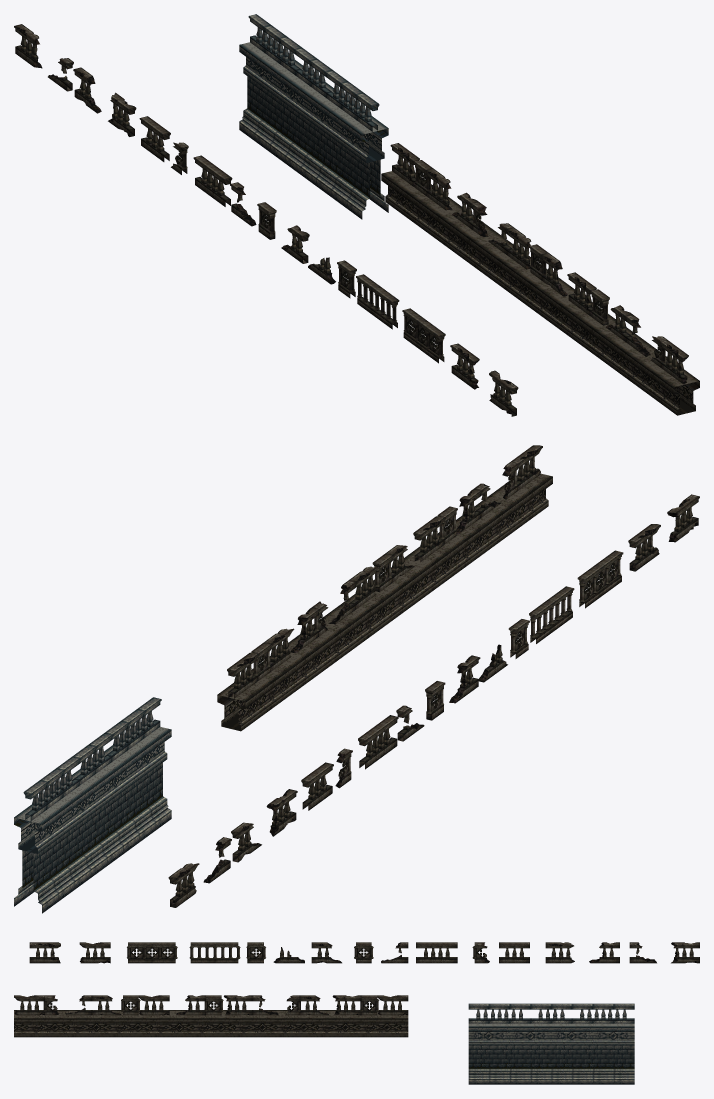
The model's file is EnvMdrMD_Daiseidou_B_Fence_A_150W_Debris_A_L.FBX.
3 views of the same model, one above another, from view 1: azimuth 30°, elevation 25°; view 2: azimuth 150°, elevation 25°; view 3: azimuth 270°, elevation 25° (orthographic). The views are drawn at different scales.
Parts seen in each view (by area): view 1: EnvMdrMD_Daiseidou_B_Fence_Debris_A_Spline, EnvMdrMD_Daiseidou_B_Fence_A_Spline, EnvMdrMD_Daiseidou_B_Fence_C_225W, EnvMdrMD_Daiseidou_B_Fence_D_225W, EnvMdrMD_Daiseidou_B_Fence_A_Loop_200W, EnvMdrMD_Daiseidou_B_Fence_A_Loop_150W, EnvMdrMD_Daiseidou_B_Fence_A_150W_Debris_A_L, EnvMdrMD_Daiseidou_B_Fence_A_150W_Debris_A_R, EnvMdrMD_Daiseidou_B_Fence_A_150W_Debris_B_L, EnvMdrMD_Daiseidou_B_Fence_A_150W_Debris_B_R; view 2: EnvMdrMD_Daiseidou_B_Fence_Debris_A_Spline, EnvMdrMD_Daiseidou_B_Fence_A_Spline, EnvMdrMD_Daiseidou_B_Fence_C_225W, EnvMdrMD_Daiseidou_B_Fence_D_225W, EnvMdrMD_Daiseidou_B_Fence_A_Loop_200W, EnvMdrMD_Daiseidou_B_Fence_A_Loop_150W, EnvMdrMD_Daiseidou_B_Fence_A_150W_Debris_A_L, EnvMdrMD_Daiseidou_B_Fence_A_150W_Debris_A_R, EnvMdrMD_Daiseidou_B_Fence_A_150W_Debris_B_L, EnvMdrMD_Daiseidou_B_Fence_A_150W_Debris_B_R; view 3: EnvMdrMD_Daiseidou_B_Fence_Debris_A_Spline, EnvMdrMD_Daiseidou_B_Fence_A_Spline, EnvMdrMD_Daiseidou_B_Fence_C_225W, EnvMdrMD_Daiseidou_B_Fence_D_225W, EnvMdrMD_Daiseidou_B_Fence_A_Loop_200W, EnvMdrMD_Daiseidou_B_Fence_A_Loop_150W, EnvMdrMD_Daiseidou_B_Fence_A_150W_Debris_A_R, EnvMdrMD_Daiseidou_B_Fence_A_150W_Debris_A_L, EnvMdrMD_Daiseidou_B_Fence_A_150W_Debris_B_R, EnvMdrMD_Daiseidou_B_Fence_A_150W_Debris_B_L, EnvMdrMD_Daiseidou_B_Fence_C_Loop_Harf, EnvMdrMD_Daiseidou_B_Fence_A_150W_Debris_C_L (+6 smaller).
Part boxes in pixels (x1,y1,x2,y2): EnvMdrMD_Daiseidou_B_Fence_Debris_A_Spline: (381, 143, 699, 415); EnvMdrMD_Daiseidou_B_Fence_A_Spline: (239, 14, 388, 219); EnvMdrMD_Daiseidou_B_Fence_C_225W: (402, 308, 445, 363); EnvMdrMD_Daiseidou_B_Fence_D_225W: (356, 274, 399, 329); EnvMdrMD_Daiseidou_B_Fence_A_Loop_200W: (193, 155, 232, 206); EnvMdrMD_Daiseidou_B_Fence_A_Loop_150W: (139, 116, 170, 161); EnvMdrMD_Daiseidou_B_Fence_A_150W_Debris_A_L: (450, 343, 479, 389); EnvMdrMD_Daiseidou_B_Fence_A_150W_Debris_A_R: (489, 370, 518, 416); EnvMdrMD_Daiseidou_B_Fence_A_150W_Debris_B_L: (14, 24, 42, 68); EnvMdrMD_Daiseidou_B_Fence_A_150W_Debris_B_R: (108, 92, 136, 136); EnvMdrMD_Daiseidou_B_Fence_Debris_A_Spline: (217, 445, 552, 731); EnvMdrMD_Daiseidou_B_Fence_A_Spline: (14, 697, 171, 913); EnvMdrMD_Daiseidou_B_Fence_C_225W: (577, 550, 623, 608); EnvMdrMD_Daiseidou_B_Fence_D_225W: (529, 586, 574, 643); EnvMdrMD_Daiseidou_B_Fence_A_Loop_200W: (358, 715, 398, 769); EnvMdrMD_Daiseidou_B_Fence_A_Loop_150W: (301, 762, 333, 810); EnvMdrMD_Daiseidou_B_Fence_A_150W_Debris_A_L: (628, 524, 660, 571); EnvMdrMD_Daiseidou_B_Fence_A_150W_Debris_A_R: (667, 494, 699, 542); EnvMdrMD_Daiseidou_B_Fence_A_150W_Debris_B_L: (168, 863, 199, 907); EnvMdrMD_Daiseidou_B_Fence_A_150W_Debris_B_R: (266, 789, 297, 836); EnvMdrMD_Daiseidou_B_Fence_Debris_A_Spline: (14, 995, 408, 1037); EnvMdrMD_Daiseidou_B_Fence_A_Spline: (468, 1003, 634, 1084); EnvMdrMD_Daiseidou_B_Fence_C_225W: (127, 942, 177, 963); EnvMdrMD_Daiseidou_B_Fence_D_225W: (189, 942, 240, 963); EnvMdrMD_Daiseidou_B_Fence_A_Loop_200W: (416, 942, 457, 963); EnvMdrMD_Daiseidou_B_Fence_A_Loop_150W: (499, 942, 529, 963); EnvMdrMD_Daiseidou_B_Fence_A_150W_Debris_A_R: (29, 942, 60, 963); EnvMdrMD_Daiseidou_B_Fence_A_150W_Debris_A_L: (79, 942, 110, 963); EnvMdrMD_Daiseidou_B_Fence_A_150W_Debris_B_R: (545, 942, 574, 963); EnvMdrMD_Daiseidou_B_Fence_A_150W_Debris_B_L: (671, 942, 699, 963); EnvMdrMD_Daiseidou_B_Fence_C_Loop_Harf: (246, 942, 265, 963); EnvMdrMD_Daiseidou_B_Fence_A_150W_Debris_C_L: (589, 942, 619, 963).
Size of the model in its own units: 764 by 400 by 3305.
